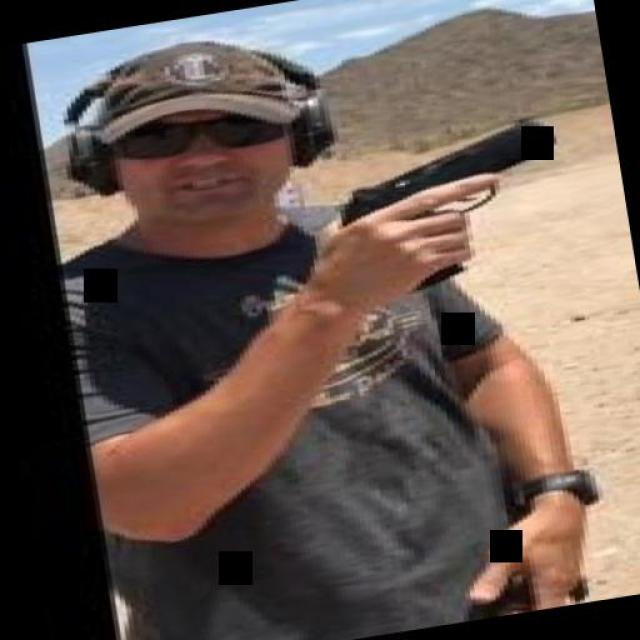gun: (325, 109, 580, 296)
